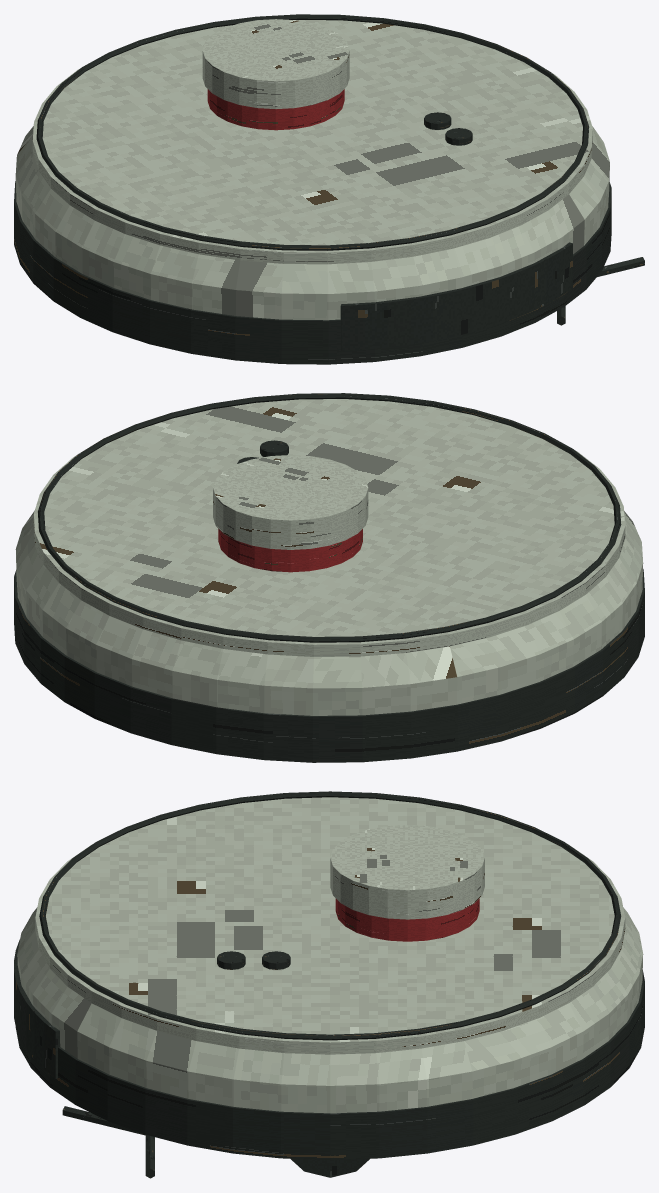
File: robot_vacuum.glb
3 renders of one model, top to bottom at view 1: azimuth 30°, elevation 25°; view 2: azimuth 150°, elevation 25°; view 3: azimuth 270°, elevation 25°, orthographic. The views are drawn at different scales.
Parts seen in each view (by area): view 1: robot_vacuum; view 2: robot_vacuum; view 3: robot_vacuum.
Part boxes in pixels (left/top/right/bottom): robot_vacuum: left=14, top=14, right=644, bottom=364; robot_vacuum: left=14, top=393, right=644, bottom=762; robot_vacuum: left=14, top=791, right=644, bottom=1178.
Bounding box in the file's own units: 0.35 × 0.138 × 0.3509.
3 materials, 3 textured.
